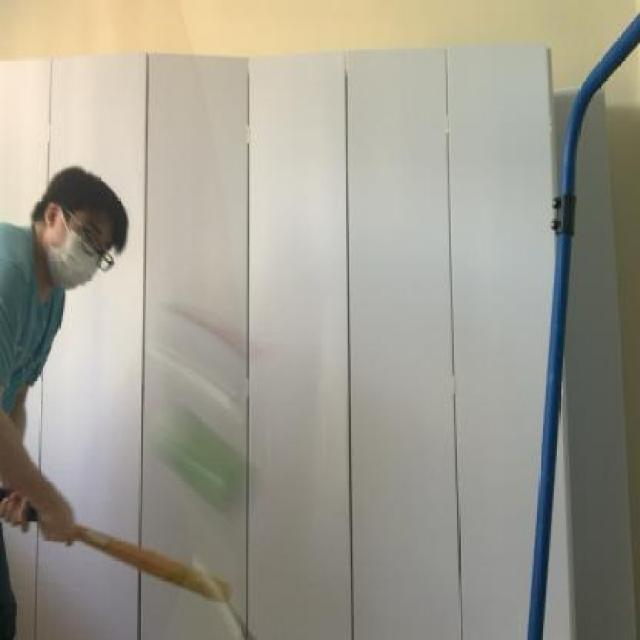baseball: (146, 397, 260, 512)
